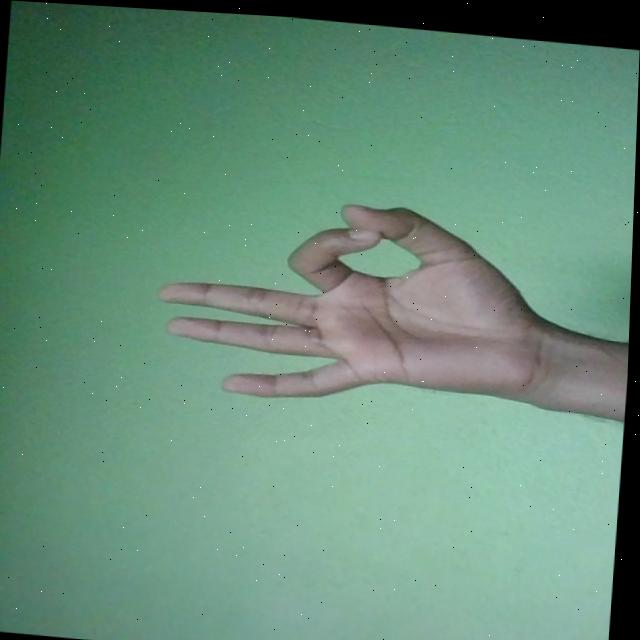Ok: (149, 180, 564, 417)
